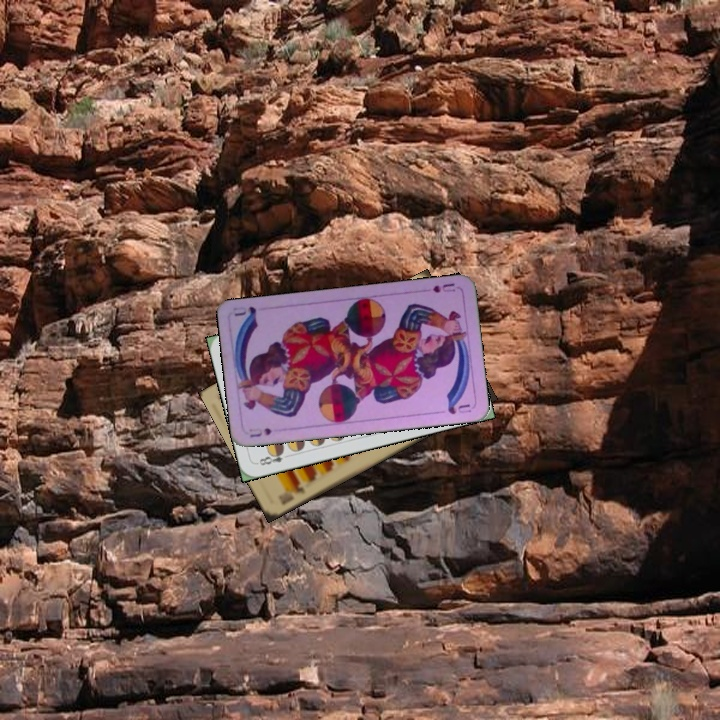E10: (277, 479, 308, 507)
E8: (253, 446, 293, 468)
SU: (245, 423, 274, 440), (429, 279, 458, 295)
